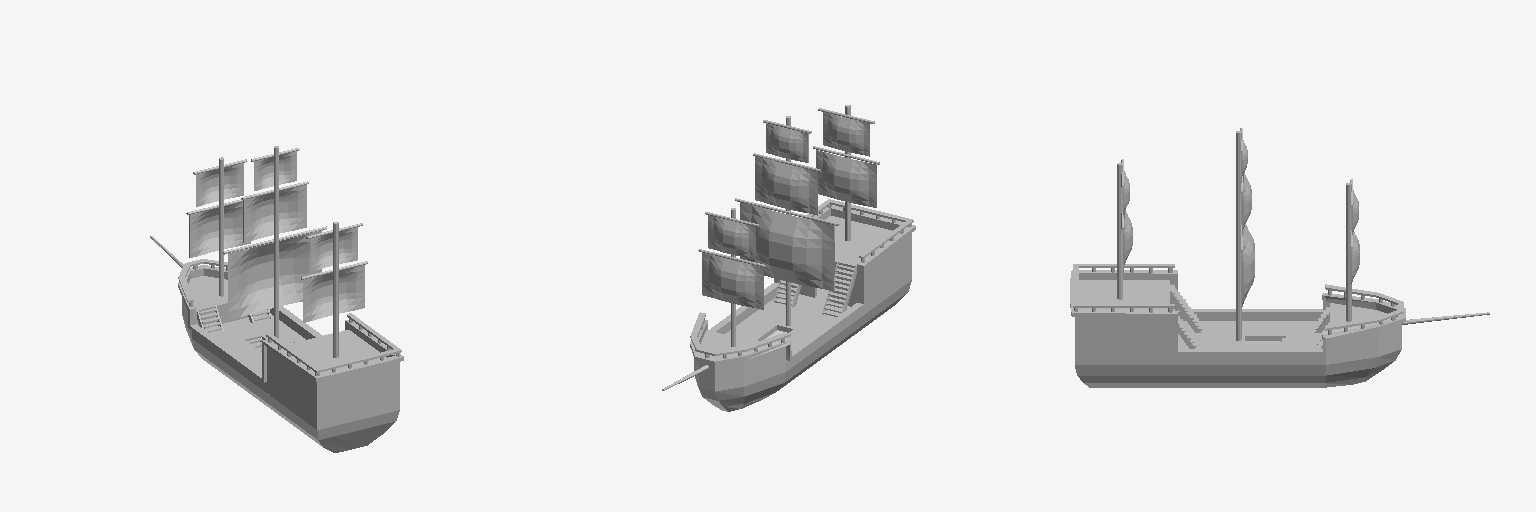
Rendered from ship.obj.
3 renders of one model, left to right at view 1: azimuth 30°, elevation 25°; view 2: azimuth 150°, elevation 25°; view 3: azimuth 270°, elevation 25°, orthographic.
Visible parts, largest first — view 1: Cube, Cube.003, Cube.004, Cube.006, Cube.001, Cube.002, Cube.007, Cube.005, Cube.015; view 2: Cube, Cube.003, Cube.004, Cube.001, Cube.006, Cube.002, Cube.007, Cube.005, Cube.008, Cube.015, Cube.017; view 3: Cube, Cube.015, Cube.003, Cube.017.
Boxes of the visible parts, <box> form: Cube: <box>150,146,403,452</box>; Cube.003: <box>228,231,321,319</box>; Cube.004: <box>243,185,306,242</box>; Cube.006: <box>303,265,364,322</box>; Cube.001: <box>189,202,250,257</box>; Cube.002: <box>196,163,243,206</box>; Cube.007: <box>311,227,357,271</box>; Cube.005: <box>254,151,296,190</box>; Cube.015: <box>266,313,401,372</box>; Cube: <box>662,105,915,411</box>; Cube.003: <box>740,202,834,291</box>; Cube.004: <box>755,156,817,215</box>; Cube.001: <box>702,253,763,309</box>; Cube.006: <box>816,150,876,207</box>; Cube.002: <box>708,215,755,259</box>; Cube.007: <box>823,112,869,156</box>; Cube.005: <box>766,123,808,162</box>; Cube.008: <box>774,265,854,316</box>; Cube.015: <box>807,199,913,258</box>; Cube.017: <box>690,312,790,355</box>; Cube: <box>1070,128,1489,387</box>; Cube.015: <box>1073,264,1174,307</box>; Cube.003: <box>1241,224,1254,316</box>; Cube.017: <box>1325,284,1403,330</box>.
Size of the model in its own units: 14.12 by 32.41 by 49.66.